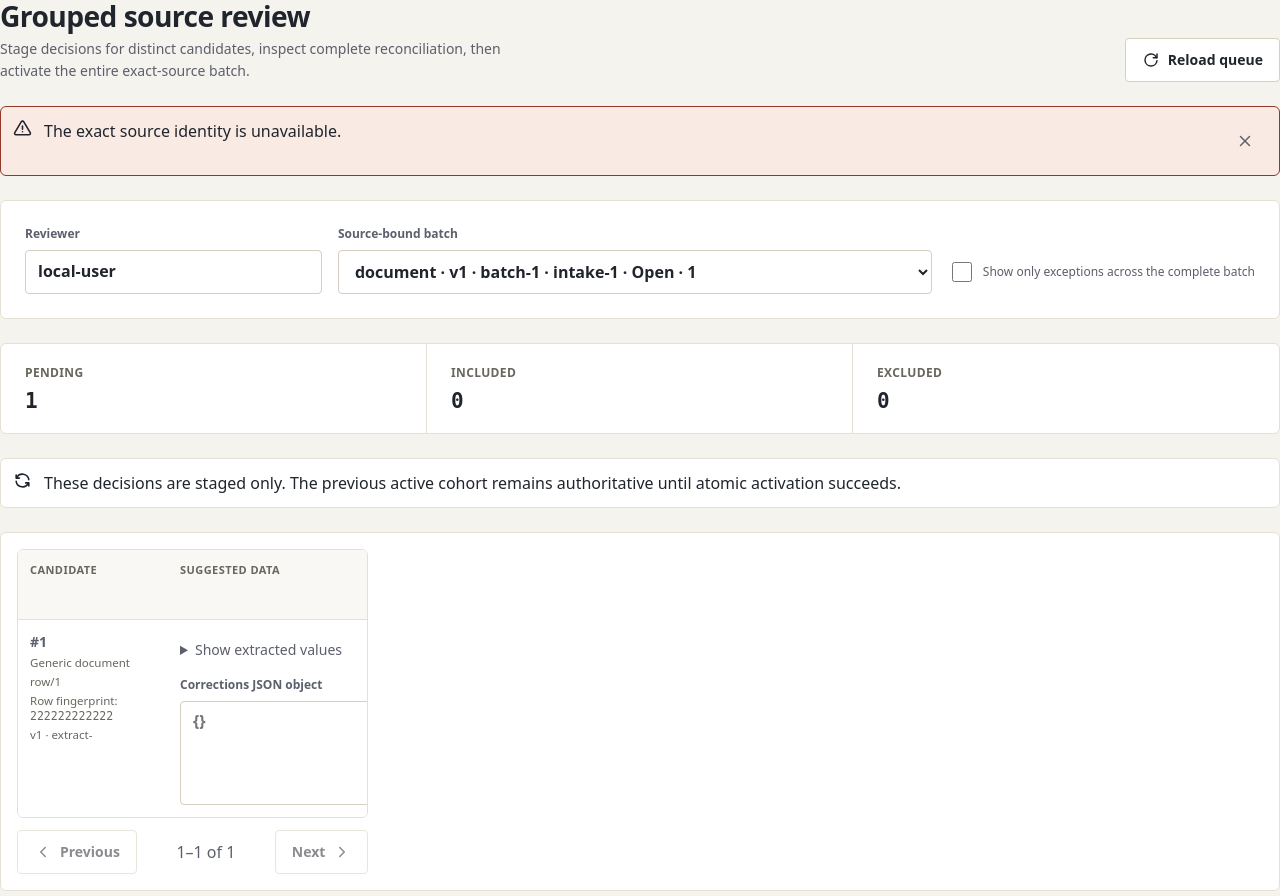
Scenario: GroupedReviewWorkspace › evicts an unreconciled exact-source cache entry so reload can recover
The width and height of the screenshot is (1280, 896).
Expected: the text "The exact source identity is unavailable." is shown, [44,119,341,143]
Click the button "Reload queue".
click(1202, 60)  # box [1125,38,1279,82]
(page scrolled)
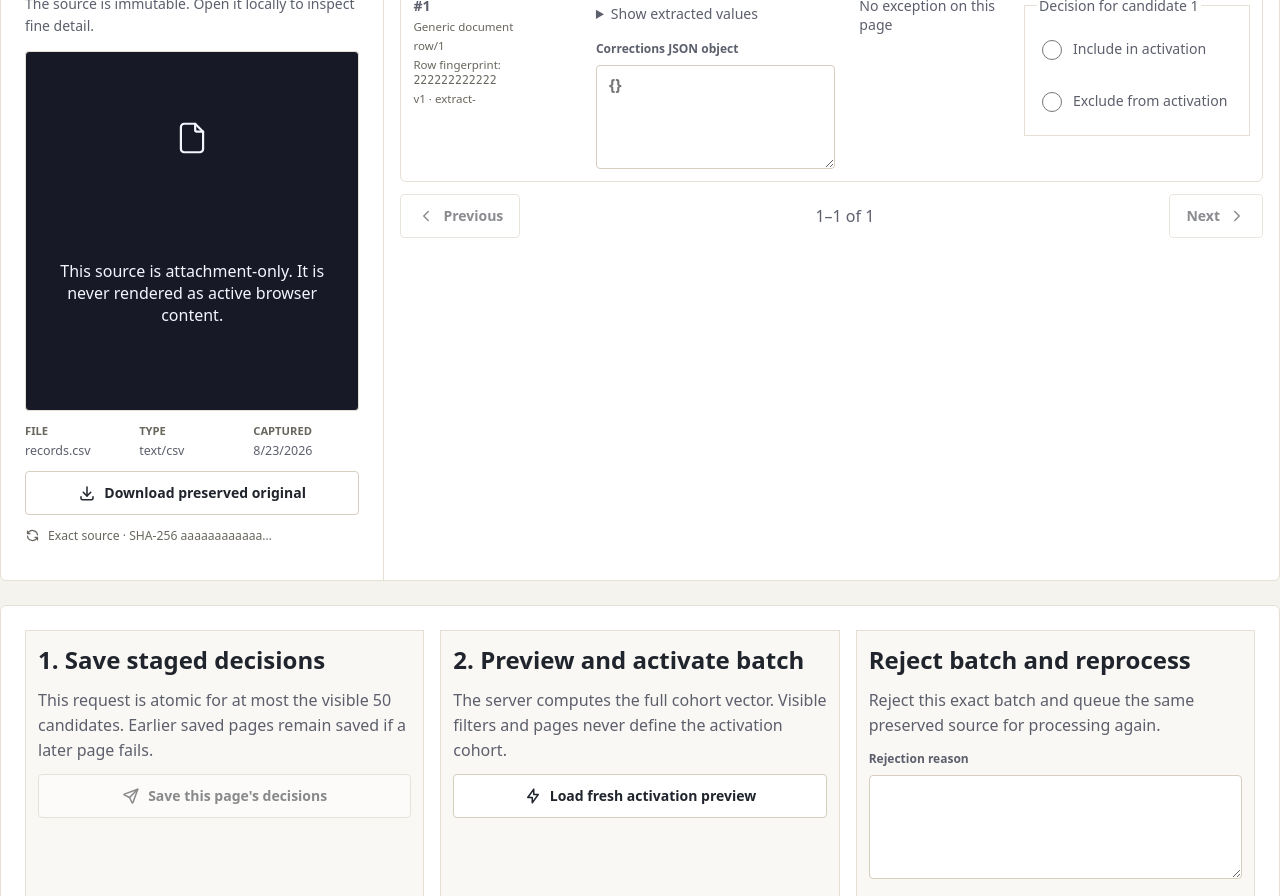
Result: the text "records.csv" is shown at [25,442,91,459]
